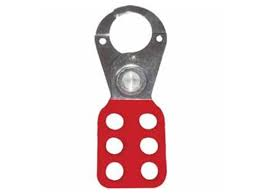hasp: (93, 5, 168, 191)
